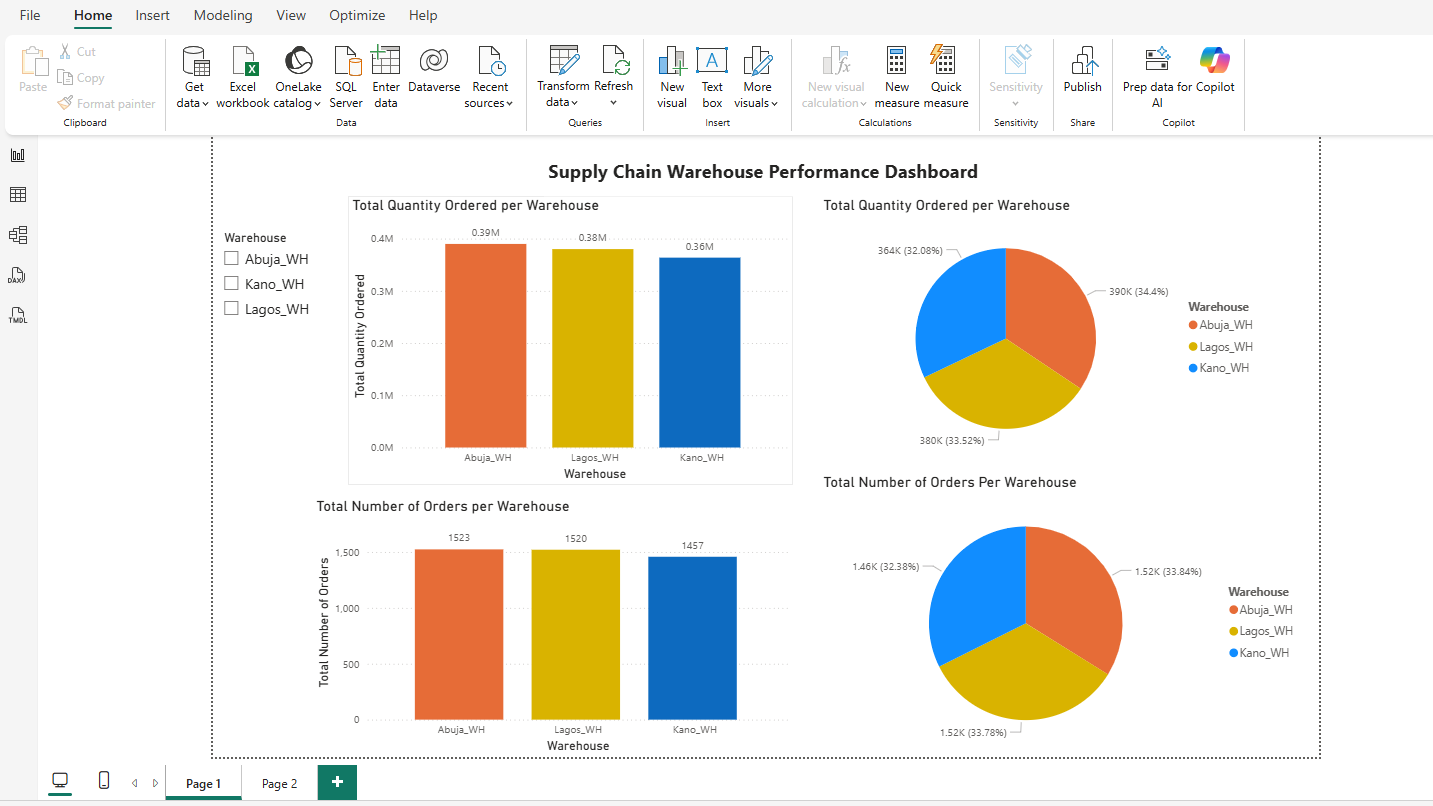

The page's visual inventory and layout, read from the dashboard file:
{"tool":"powerbi","page":{"name":"Page 1","canvas":[1280,720],"ordinal":0},"visuals":[{"type":"clusteredColumnChart","title":"Total Number of Orders per Warehouse","fields":{"Category":["Dashboard_data.Warehouse"],"Y":["CountNonNull(Dashboard_data.OrderID)"]},"box":[114.4,419,556.5,300.7],"z":0},{"type":"clusteredColumnChart","title":"Total Quantity Ordered per Warehouse","fields":{"Category":["Dashboard_data.Warehouse"],"Y":["Sum(Dashboard_data.OrderQuantity)"]},"box":[156.8,70.7,514.1,334.1],"z":1000},{"type":"textbox","box":[383,21.8,661.8,48.8],"z":2000},{"type":"slicer","fields":{"Values":["Dashboard_data.Warehouse"]},"box":[0,105.4,127.2,232.6],"z":3000},{"type":"pieChart","title":"Total Quantity Ordered per Warehouse","fields":{"Category":["Dashboard_data.Warehouse"],"Y":["Sum(Dashboard_data.OrderQuantity)"]},"box":[701.7,70.7,520.5,311],"z":4000},{"type":"pieChart","title":"Total Number of Orders Per Warehouse","fields":{"Category":["Dashboard_data.Warehouse"],"Y":["CountNonNull(Dashboard_data.OrderID)"]},"box":[701.7,390.7,566.7,329],"z":5000}]}

Visuals, with their boxes on the page's 1280x720 design canvas (x1, y1, x2, y2). These are canvas units, not pixel positions in the 1433x806 screenshot, which may show the page scaled, cropped or inside an application window:
"Total Number of Orders per Warehouse" clusteredColumnChart: x1=114, y1=419, x2=671, y2=720
"Total Quantity Ordered per Warehouse" clusteredColumnChart: x1=157, y1=71, x2=671, y2=405
textbox: x1=383, y1=22, x2=1045, y2=71
slicer - Dashboard_data.Warehouse: x1=0, y1=105, x2=127, y2=338
"Total Quantity Ordered per Warehouse" pieChart: x1=702, y1=71, x2=1222, y2=382
"Total Number of Orders Per Warehouse" pieChart: x1=702, y1=391, x2=1268, y2=720
